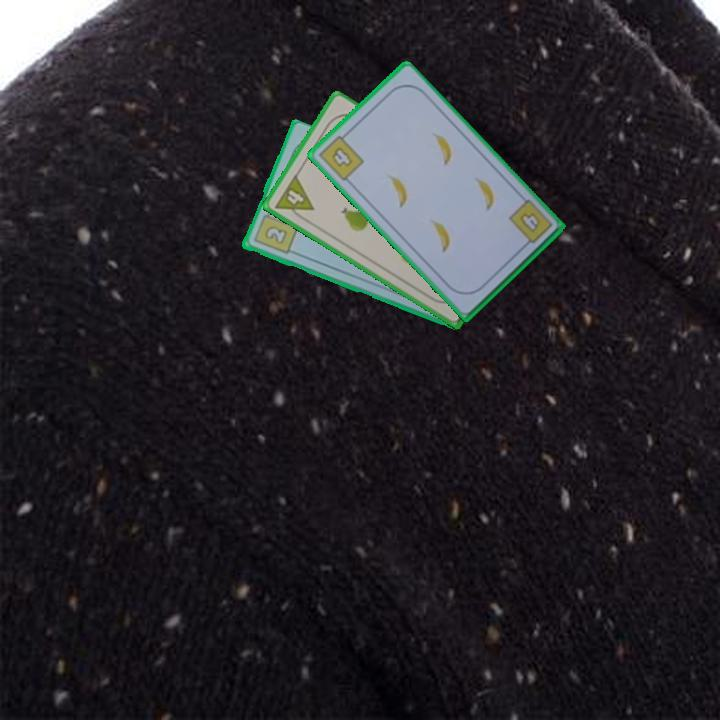2b: (250, 206, 300, 257)
4b: (315, 128, 367, 184), (505, 196, 555, 251)
4p: (271, 171, 317, 225)
